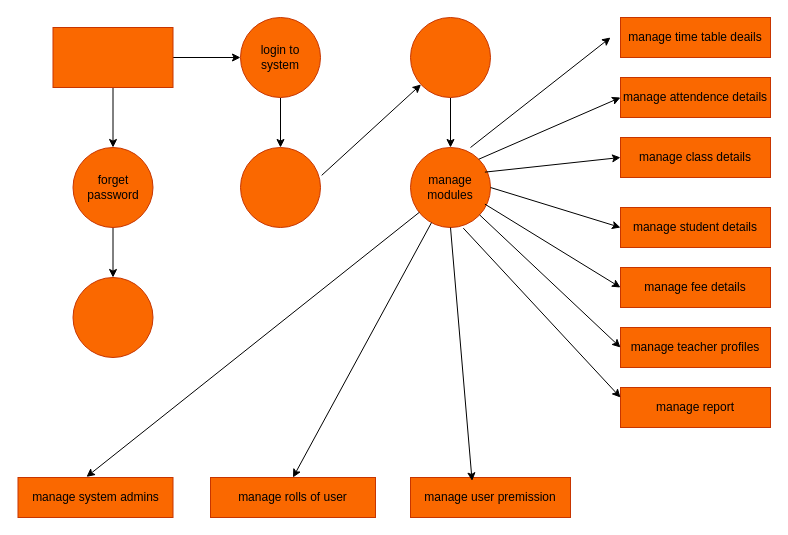
The diagram is 788 pixels wide and 535 high, and some of its shapes have lost their labels. The box of each missing label's shape, as (x1, y1, x2, y2) in pixels:
admin: (52, 26, 173, 88)
check credendials: (240, 146, 320, 228)
check rolls of access: (410, 16, 490, 98)
send email to user: (72, 276, 153, 358)
